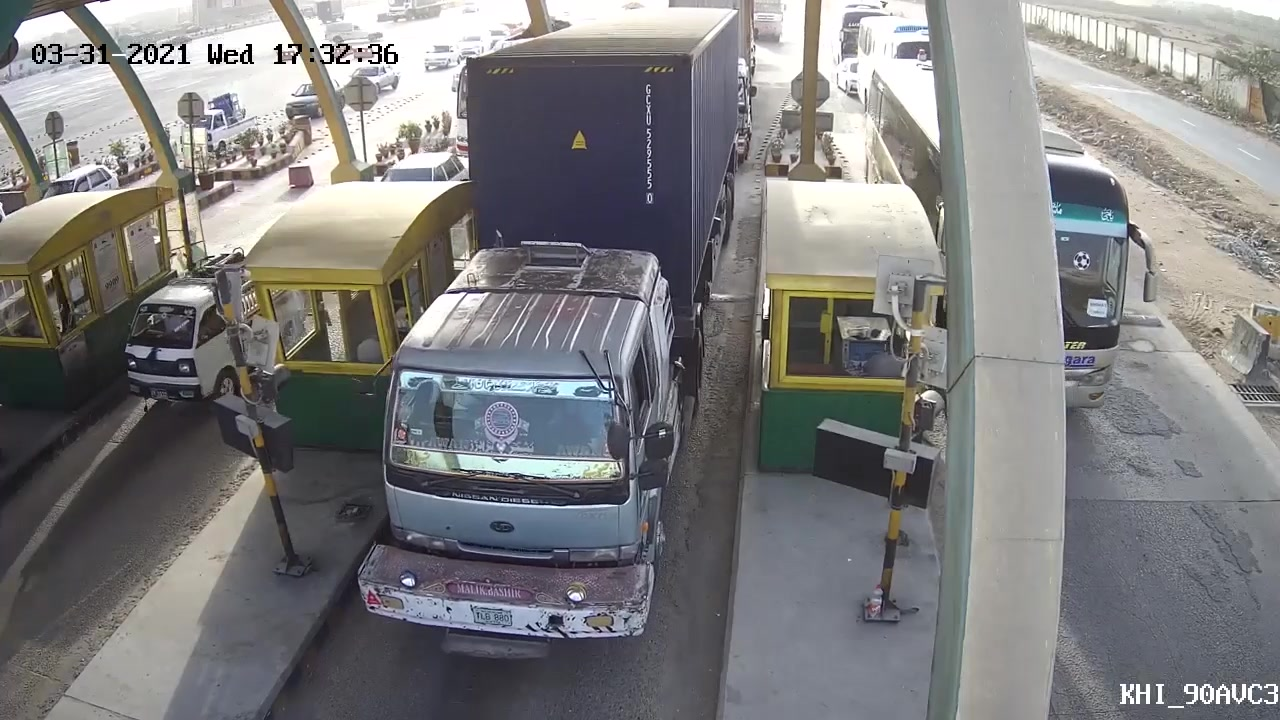F6: (337, 7, 755, 648)
